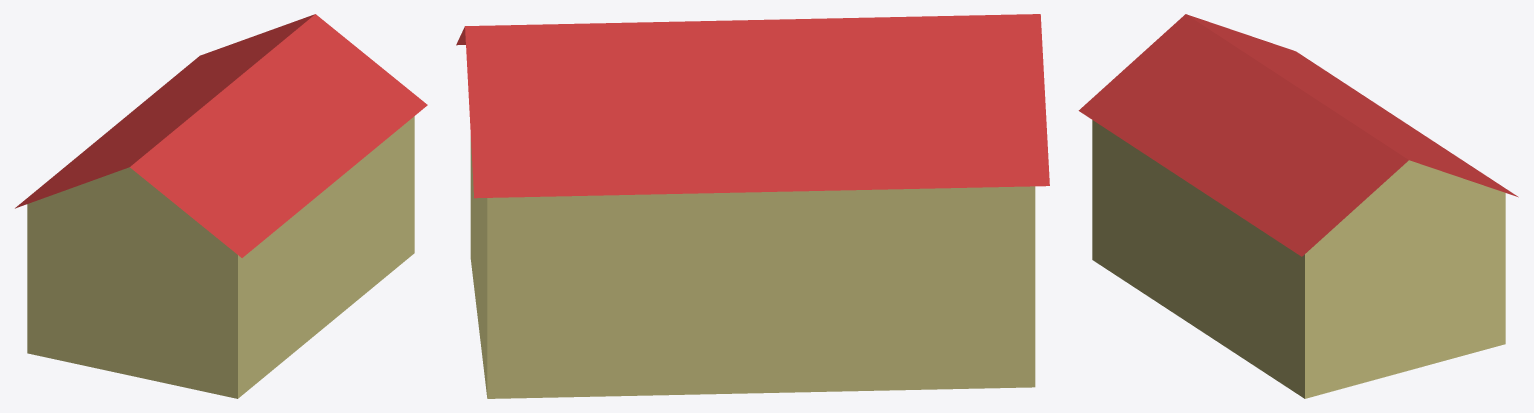
The picture shows the model from 3 angles, left to right: view 1: azimuth 30°, elevation 25°; view 2: azimuth 150°, elevation 25°; view 3: azimuth 270°, elevation 25°; orthographic projection. The views are drawn at different scales.
Size of the model in its own units: 24.57 by 22.27 by 12.
